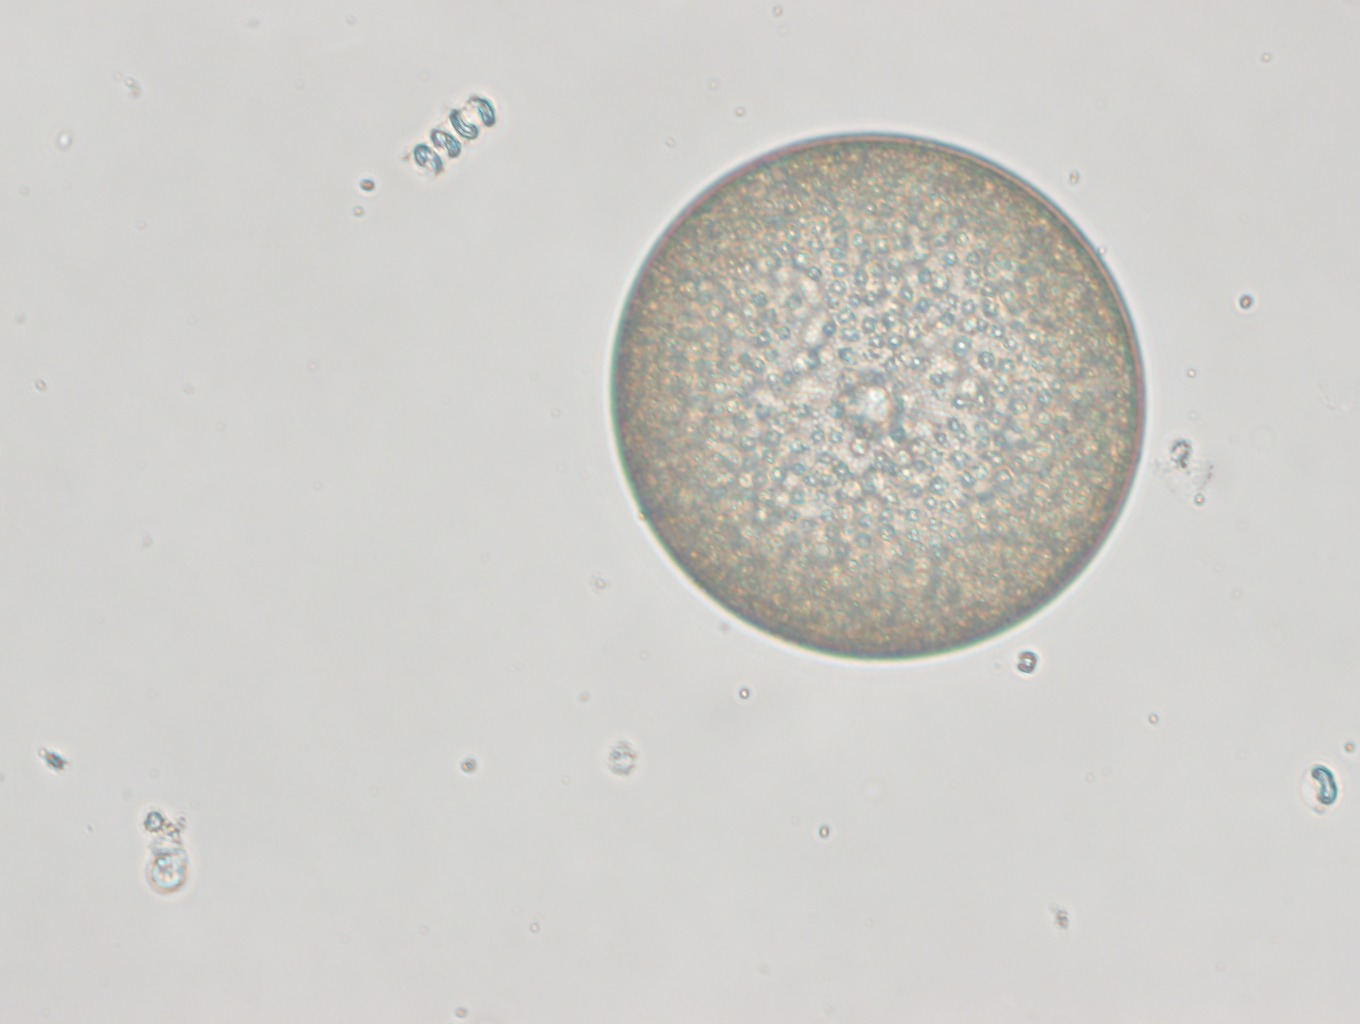coscinodiscus: (607, 129, 1147, 662)
skeletonema: (401, 94, 499, 184)
